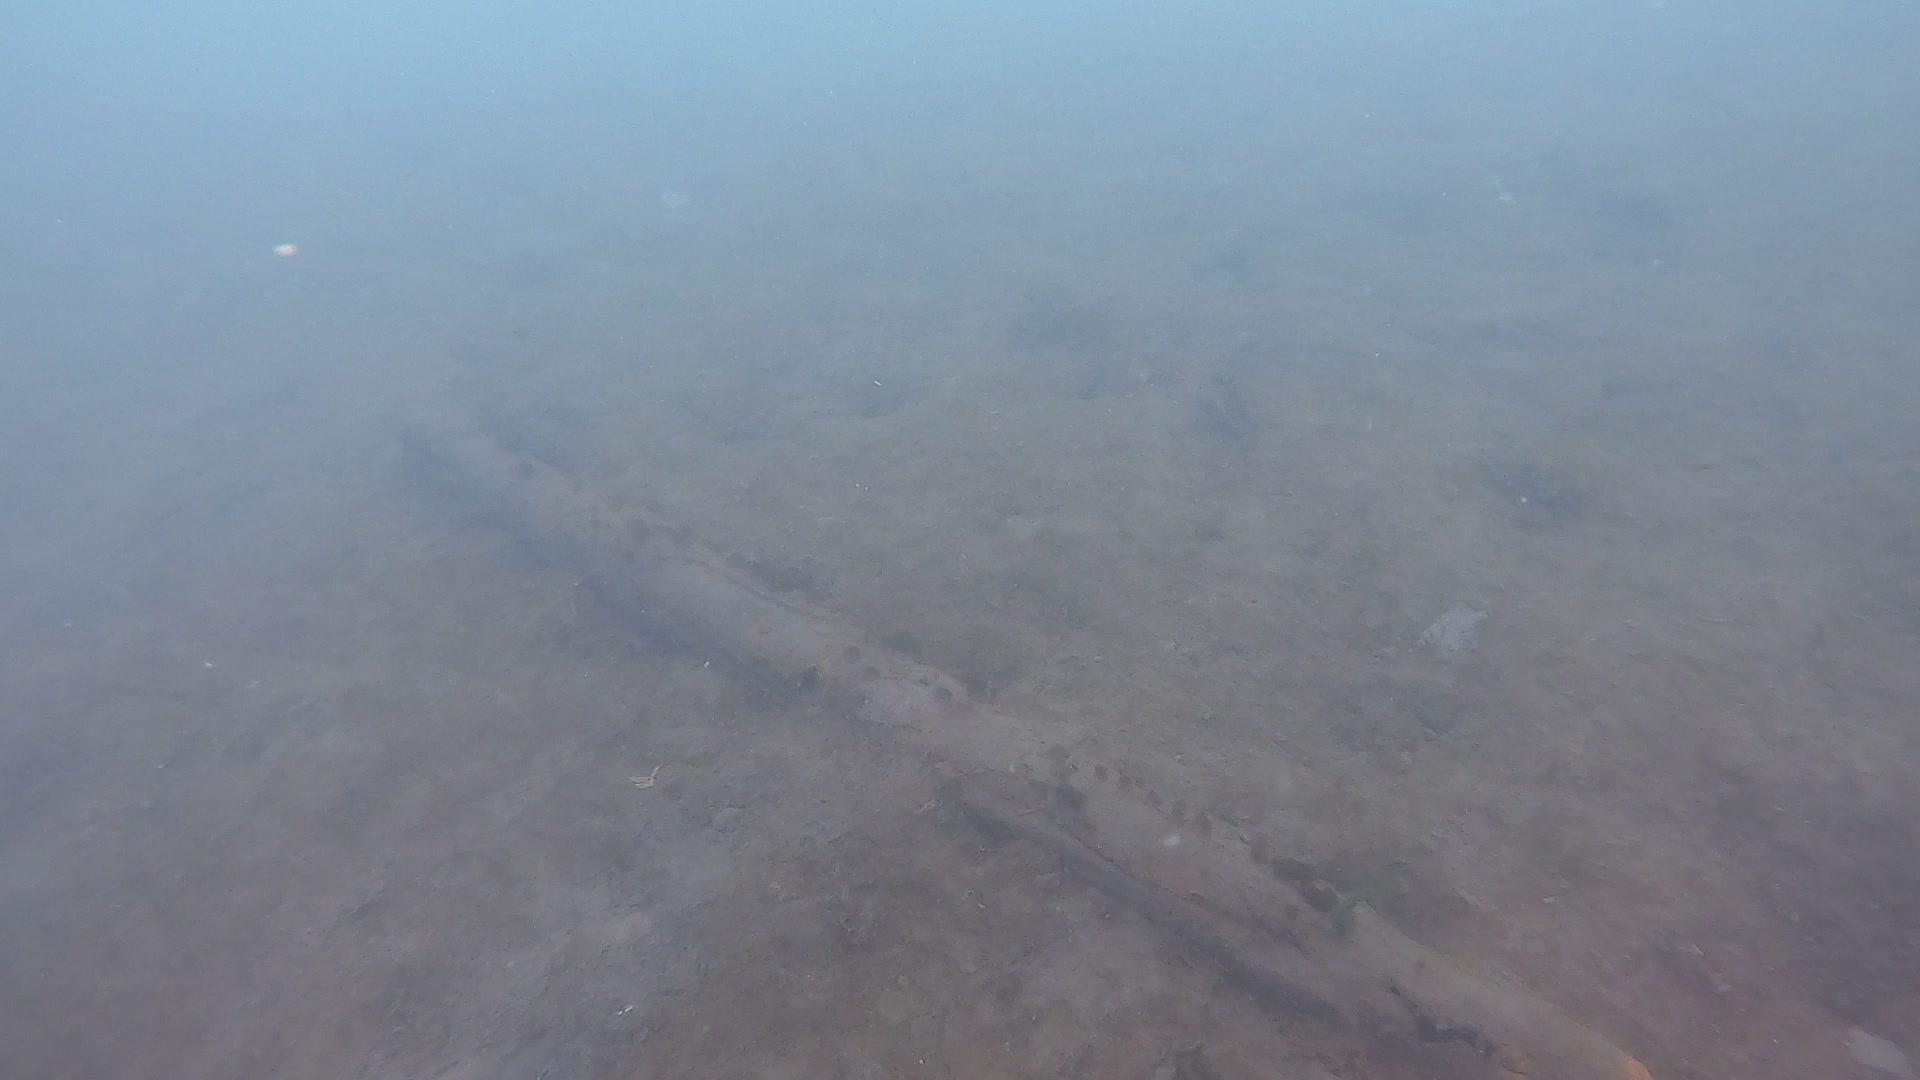wood: (400, 423, 1651, 1080)
